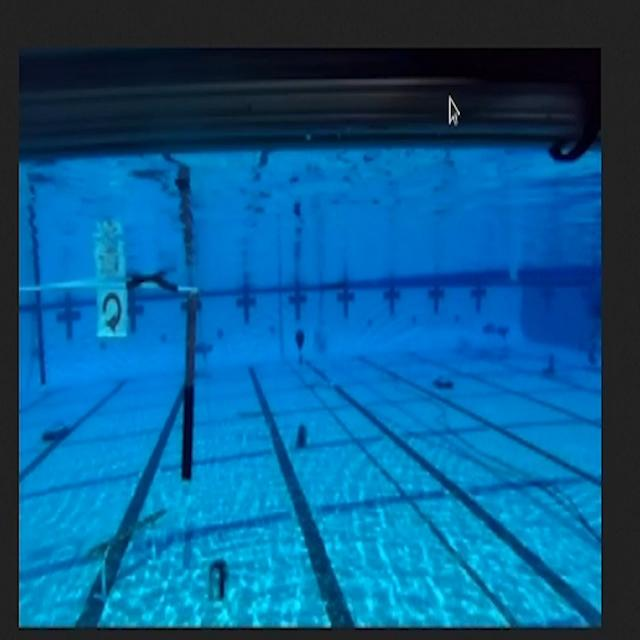Gate: (24, 276, 200, 482)
